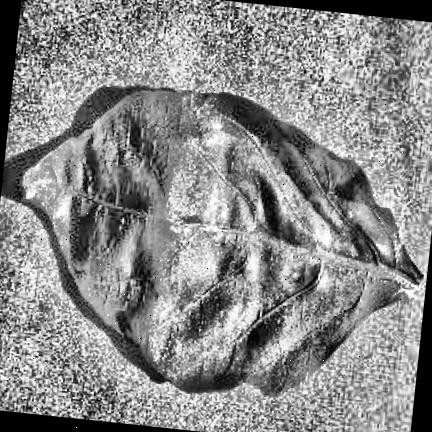leaf: (22, 87, 420, 393)
